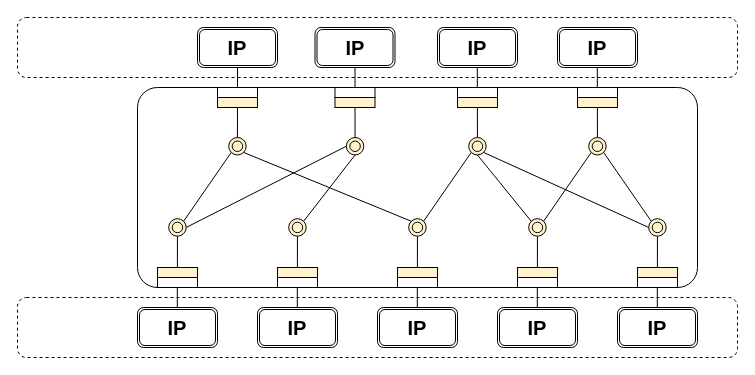
The diagram is 755 pixels wide and 375 high, and some of its shapes have lost their labels. The shapes that lost their labels are listed below. From the top down, each one's box as (x1, y1, x2, y2) in pixels, then its label:
(16, 16, 738, 78): Managers
(16, 296, 738, 358): Subordinates
